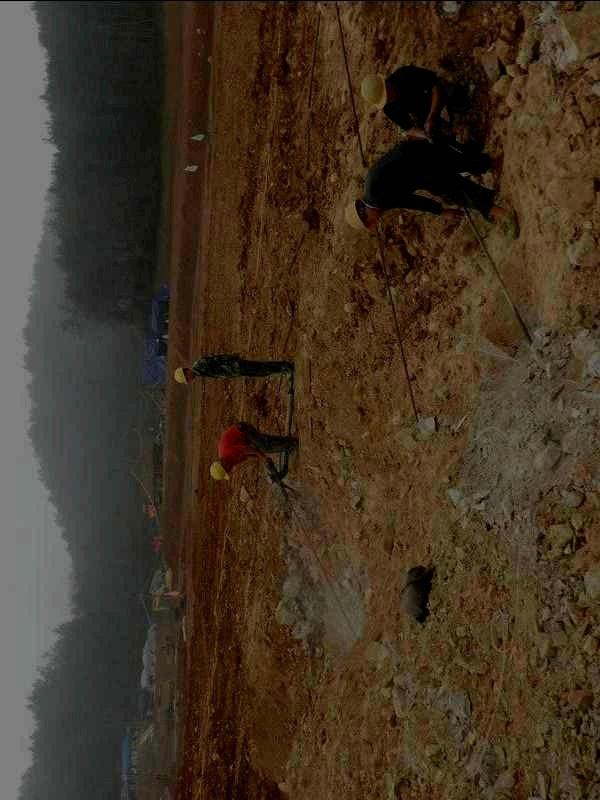helmet: (344, 197, 379, 232), (359, 72, 391, 109), (210, 460, 232, 481), (174, 367, 195, 385)
